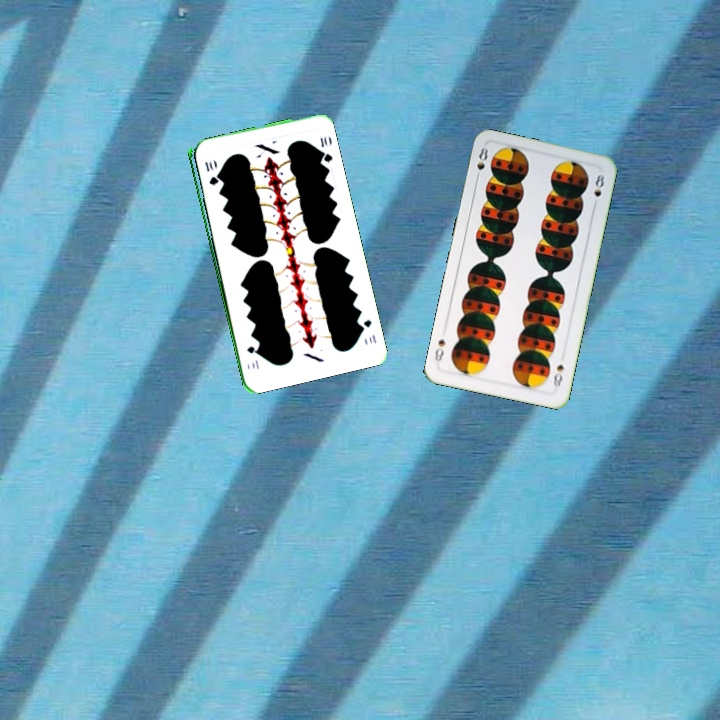G10: (356, 316, 379, 345), (201, 157, 219, 188)
S8: (471, 143, 491, 183), (549, 361, 566, 393)
